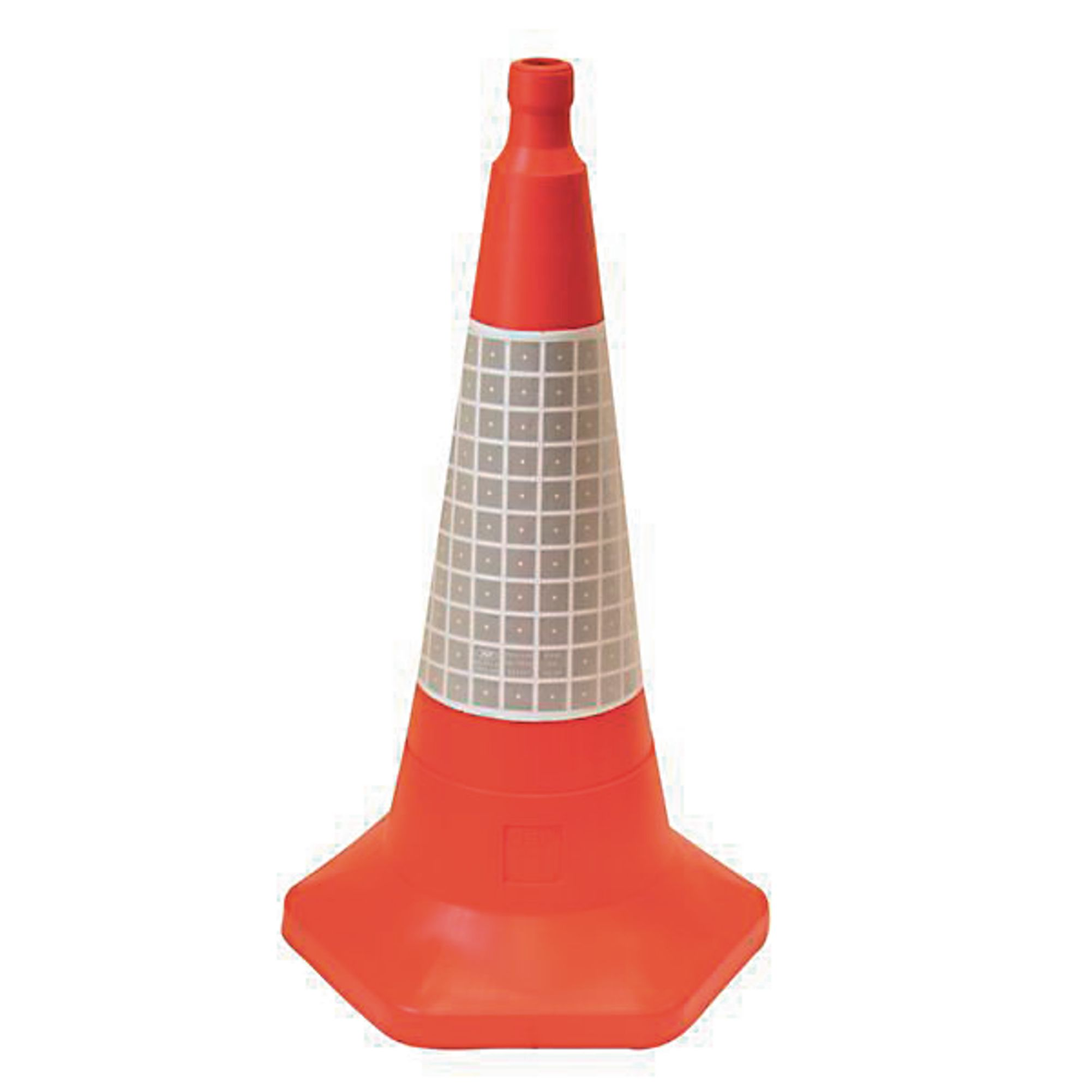Road_cone: (189, 24, 815, 1051)
